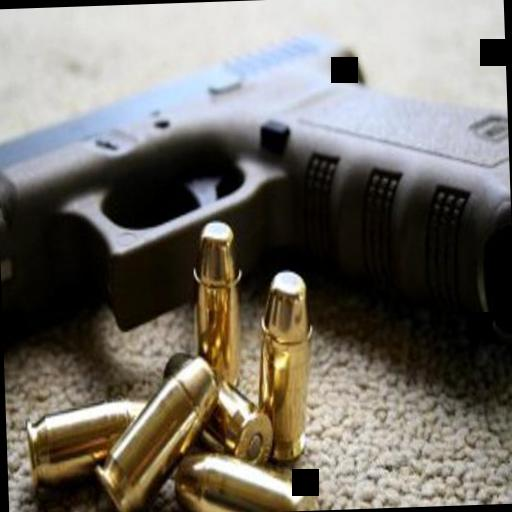Handgun: (0, 26, 510, 385)
